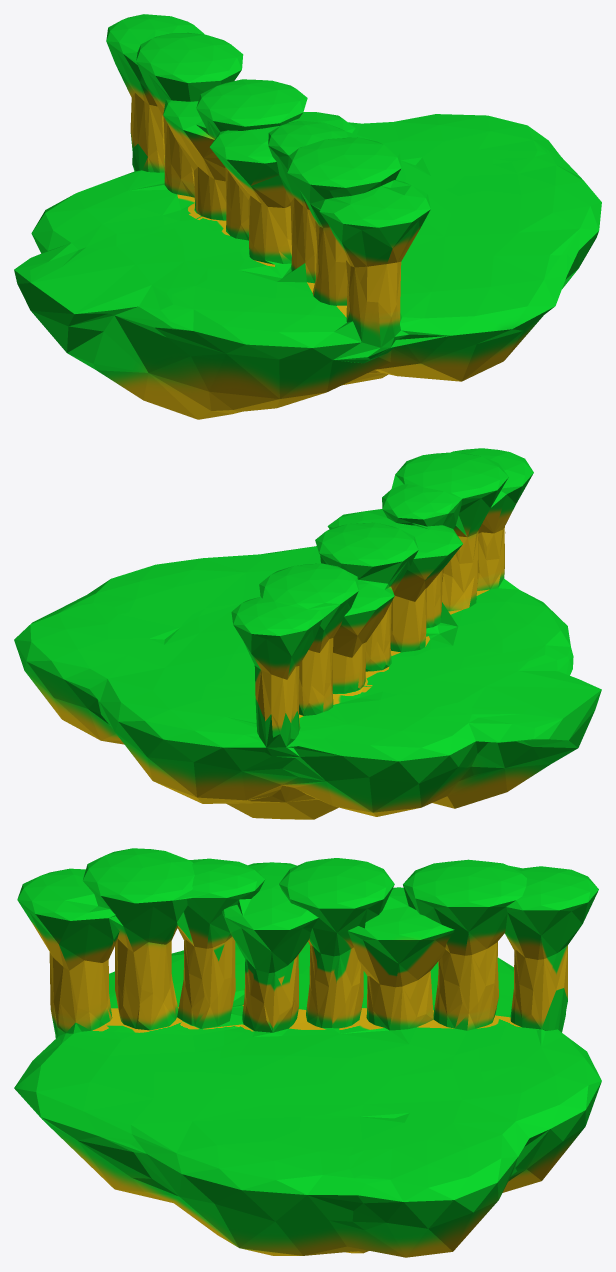
File: startLand.obj
The picture shows the model from 3 angles, top to bottom: view 1: azimuth 30°, elevation 25°; view 2: azimuth 150°, elevation 25°; view 3: azimuth 270°, elevation 25°; orthographic projection. The views are drawn at different scales.
Visible parts, largest first — view 1: Ico_球體.001; view 2: Ico_球體.001; view 3: Ico_球體.001.
Boxes of the visible parts, x1=… form: Ico_球體.001: x1=14, y1=14, x2=601, y2=419; Ico_球體.001: x1=14, y1=448, x2=601, y2=819; Ico_球體.001: x1=14, y1=848, x2=601, y2=1257.
Bounding box in the file's own units: 306 × 173 × 269.
1 material, 1 textured.
